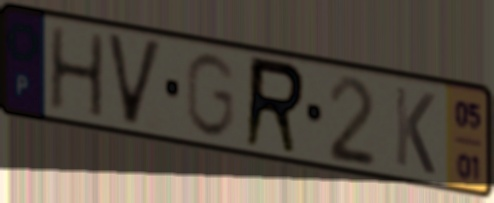2: (326, 71, 379, 169)
G: (182, 49, 239, 141)
H: (46, 23, 107, 122)
K: (392, 82, 438, 179)
R: (240, 52, 309, 159)
V: (103, 29, 167, 131)
